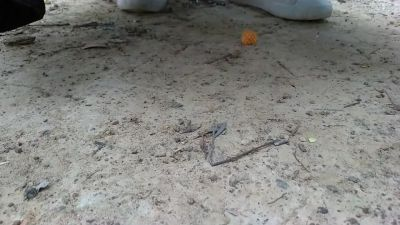eggs: (237, 24, 261, 47)
